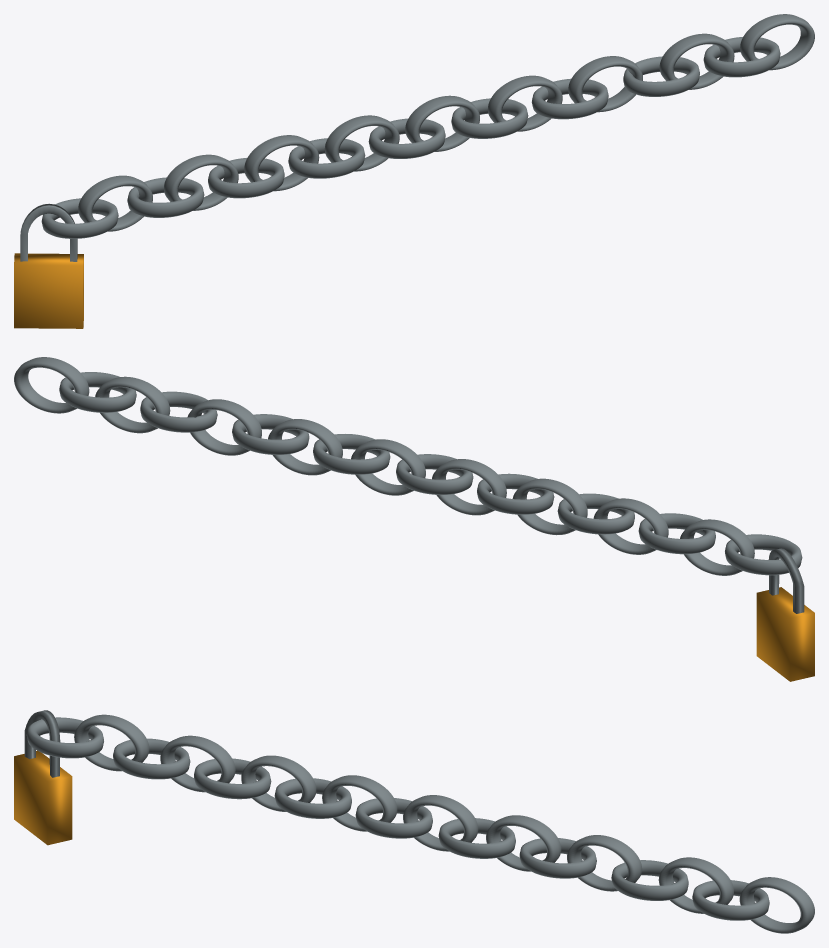
The model's file is Chain.fbx.
3 renders of one model, top to bottom at view 1: azimuth 30°, elevation 25°; view 2: azimuth 150°, elevation 25°; view 3: azimuth 330°, elevation 25°, orthographic.
Parts seen in each view (by area): view 1: Circle.004, Cube.010; view 2: Circle.004, Cube.010; view 3: Circle.004, Cube.010.
Part boxes in pixels (x1,y1,x2,y2): Circle.004: (41, 14, 814, 238); Cube.010: (14, 203, 83, 328); Circle.004: (14, 357, 802, 575); Cube.010: (756, 548, 814, 681); Circle.004: (26, 714, 814, 933); Cube.010: (14, 710, 72, 845).
Bounding box in the file's own units: 500 × 76.13 × 38.59.
